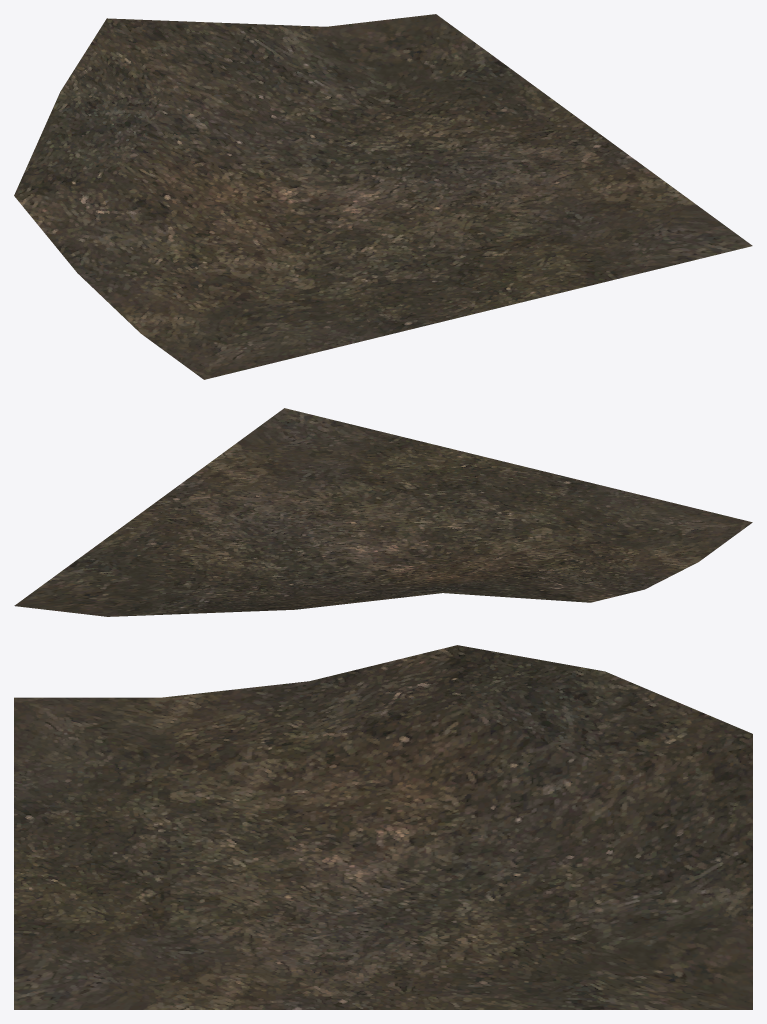
File: blend_weeds03.fbx
3 views of the same model, one above another, from view 1: azimuth 30°, elevation 25°; view 2: azimuth 150°, elevation 25°; view 3: azimuth 270°, elevation 25° (orthographic). The views are drawn at different scales.
Visible parts, largest first — view 1: New_terrain/weeds_shadow; view 2: New_terrain/weeds_shadow; view 3: New_terrain/weeds_shadow.
Boxes of the visible parts, x1,y1,x2,y2 form: New_terrain/weeds_shadow: (14,14,752,379); New_terrain/weeds_shadow: (14,408,752,616); New_terrain/weeds_shadow: (14,645,752,1009).
Size of the model in its own units: 12.5 by 1.65 by 12.5.
